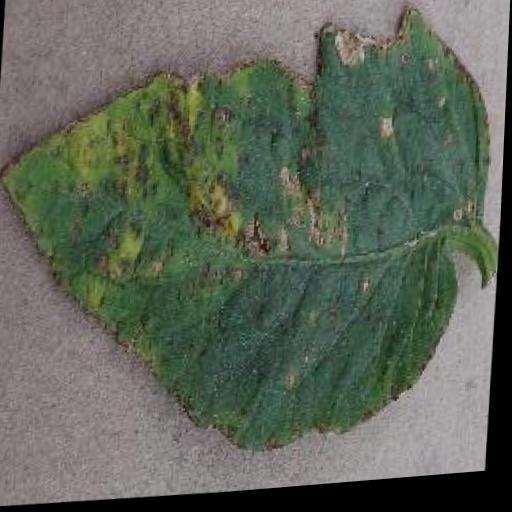Bacterial Spot: (0, 0, 503, 480)
